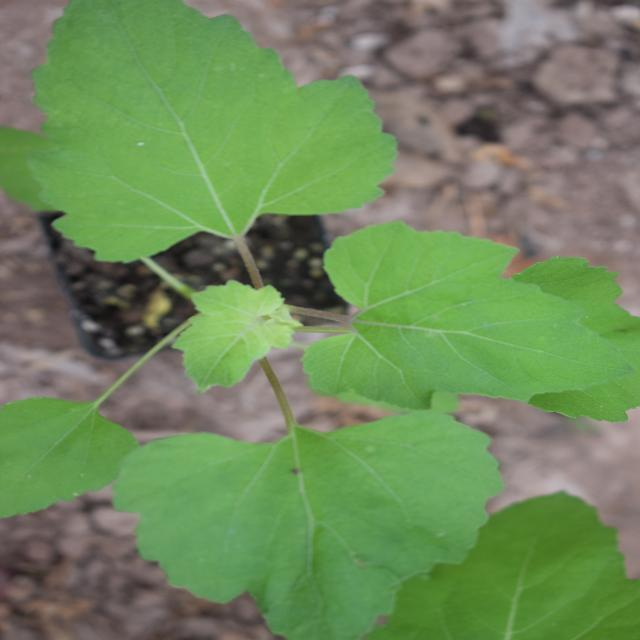cocklebur: (45, 61, 601, 605)
